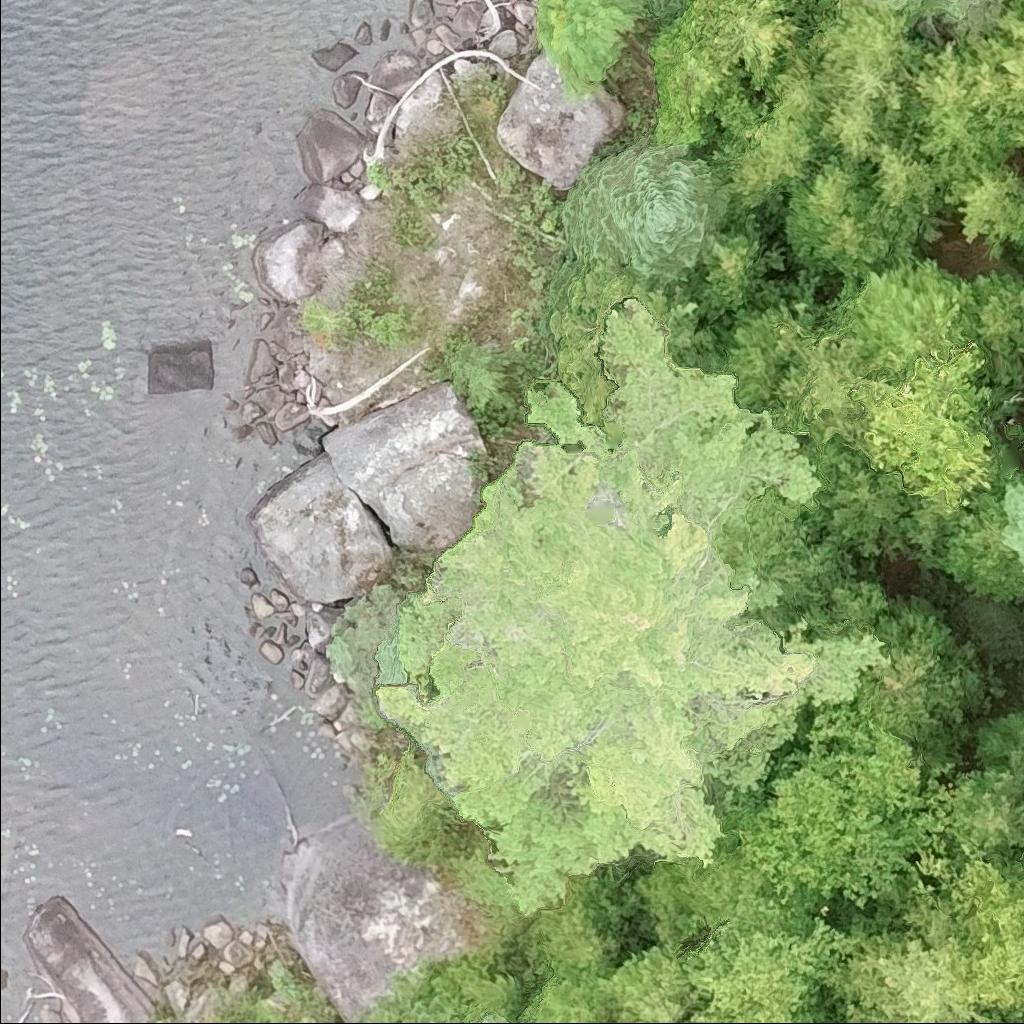crown: (372, 299, 887, 919), (737, 701, 932, 907), (834, 337, 999, 510), (562, 129, 734, 282), (852, 594, 989, 763), (900, 849, 1023, 1023), (726, 296, 861, 444), (677, 916, 857, 1023), (828, 911, 990, 1023), (829, 254, 968, 384), (782, 150, 923, 277), (903, 36, 1022, 165), (649, 15, 751, 141), (723, 116, 823, 211), (529, 881, 619, 976), (689, 204, 761, 319), (820, 0, 934, 72), (934, 152, 1023, 244), (597, 944, 699, 1023), (976, 1, 1023, 153), (816, 95, 914, 161), (873, 130, 952, 211), (809, 51, 915, 111), (518, 966, 612, 1023), (770, 53, 831, 131), (964, 274, 1023, 353), (865, 0, 1006, 25), (998, 471, 1023, 574), (810, 1003, 840, 1023), (472, 1013, 509, 1023), (983, 1014, 1011, 1023), (1022, 815, 1023, 831)
